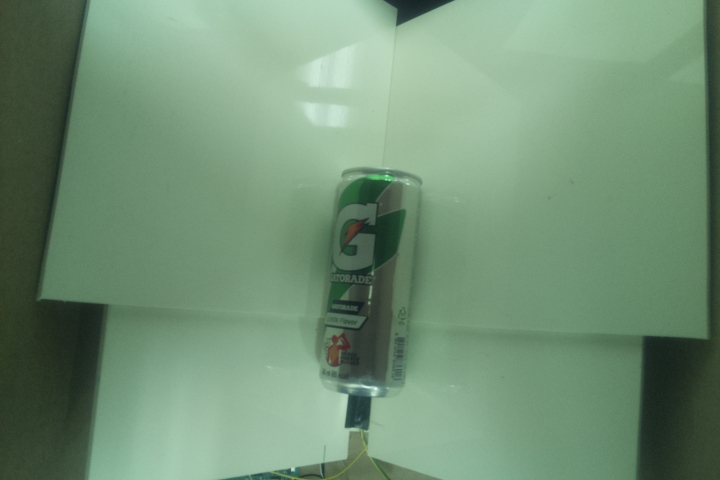can: (318, 163, 425, 401)
